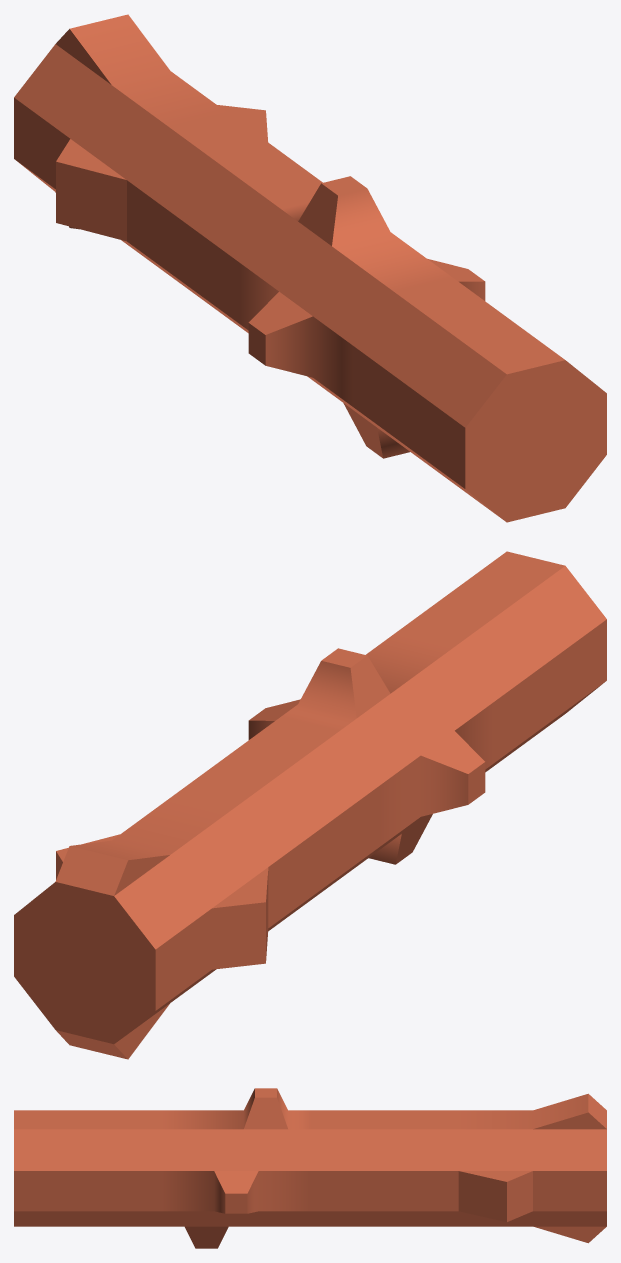
The model's file is Log.fbx.
3 renders of one model, top to bottom at view 1: azimuth 30°, elevation 25°; view 2: azimuth 150°, elevation 25°; view 3: azimuth 270°, elevation 25°, orthographic. The views are drawn at different scales.
Parts seen in each view (by area): view 1: mergedBlocks; view 2: mergedBlocks; view 3: mergedBlocks.
Boxes of the visible parts, <box> form: mergedBlocks: <box>14,14,606,522</box>; mergedBlocks: <box>14,551,606,1059</box>; mergedBlocks: <box>14,1088,606,1248</box>.
Size of the model in its own units: 5.62 by 5.62 by 20.
